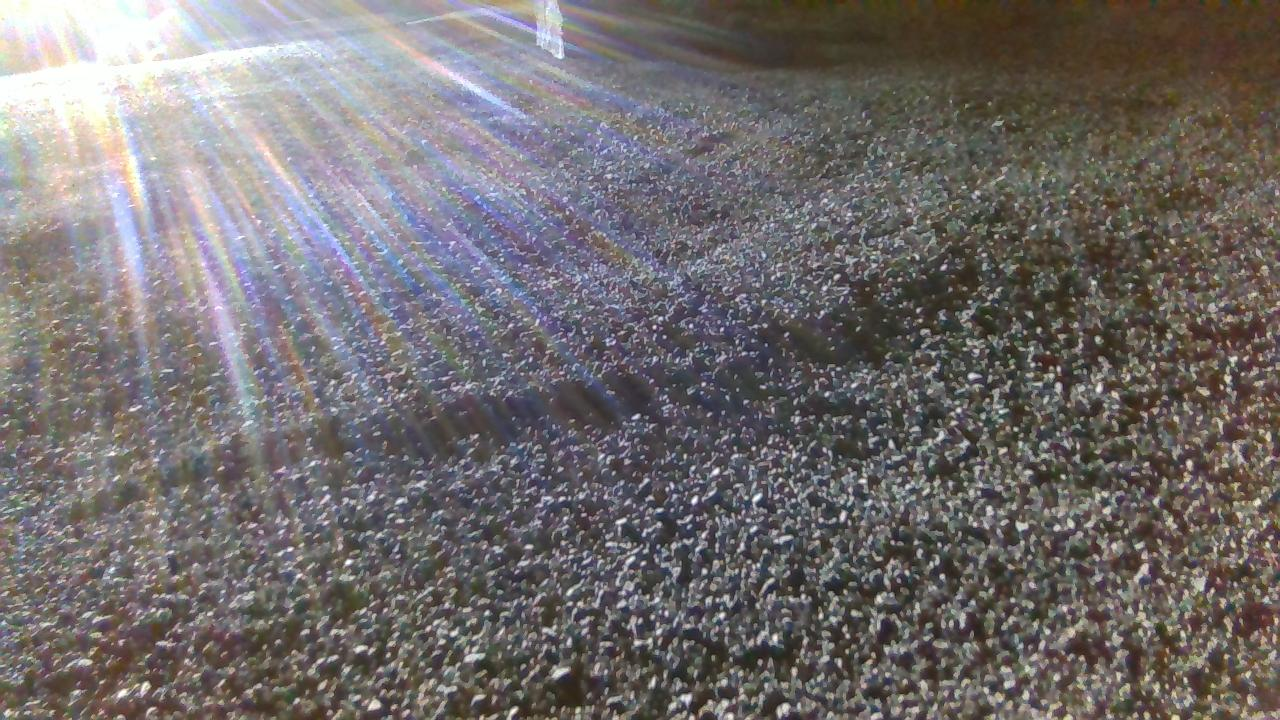rock: (536, 0, 564, 57)
